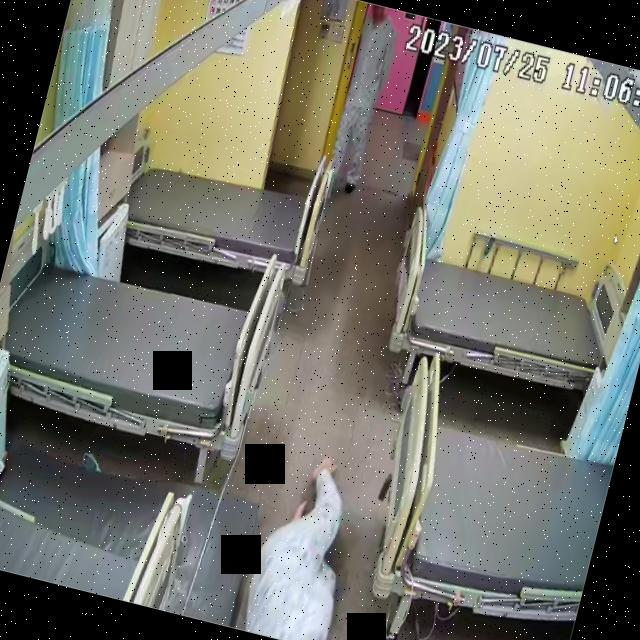bed: (356, 348, 630, 639), (0, 243, 279, 455), (377, 231, 633, 403), (118, 144, 326, 285)
fall: (237, 439, 372, 640)
move: (323, 2, 402, 194)
patient: (236, 439, 370, 640), (321, 2, 401, 195)
